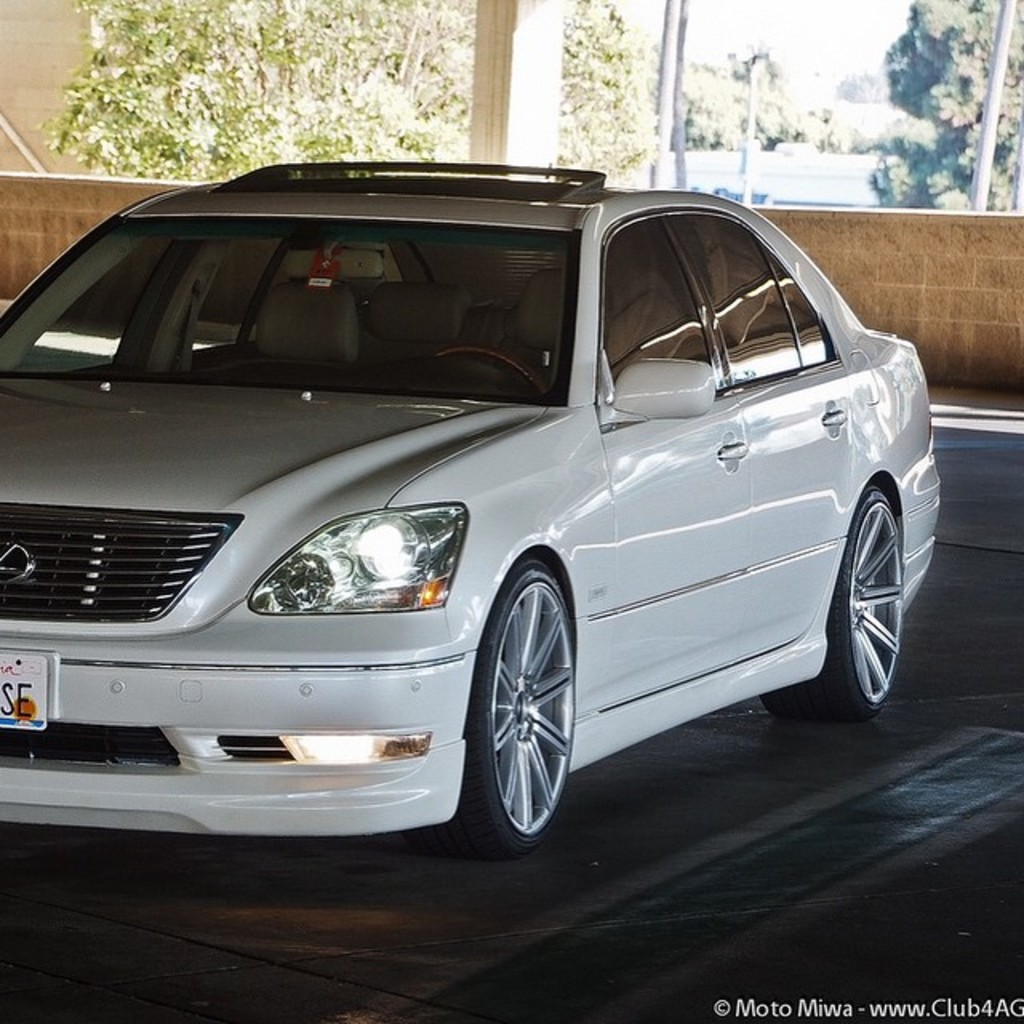Car: (0, 161, 940, 861)
